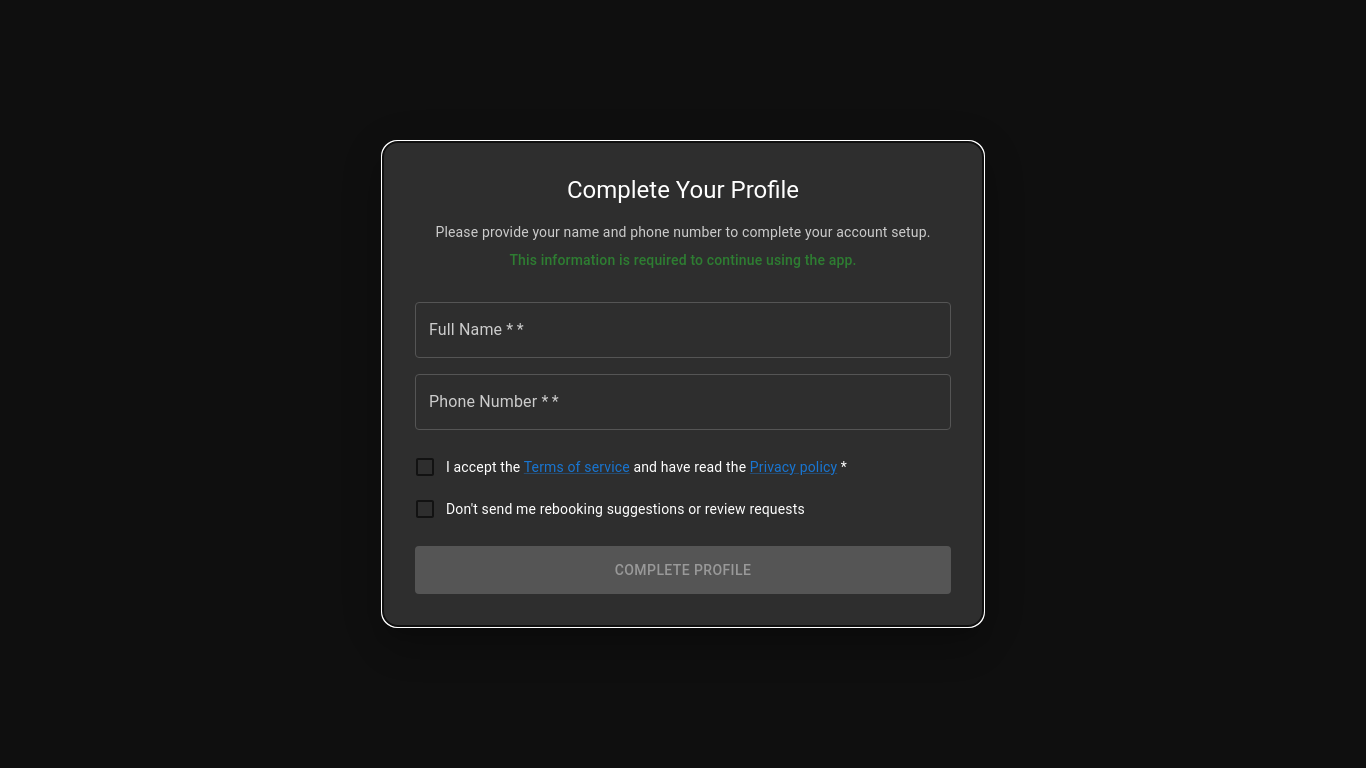
Test case: CompleteProfileModal › disables submit until name, phone and terms acceptance are filled
Expected: the button "Complete Profile" is disabled, [415,546,951,594]
Type "Jo" into the field labelled "Full Name * *".
click(683, 330); type("Jo")  # box [415,302,951,358]
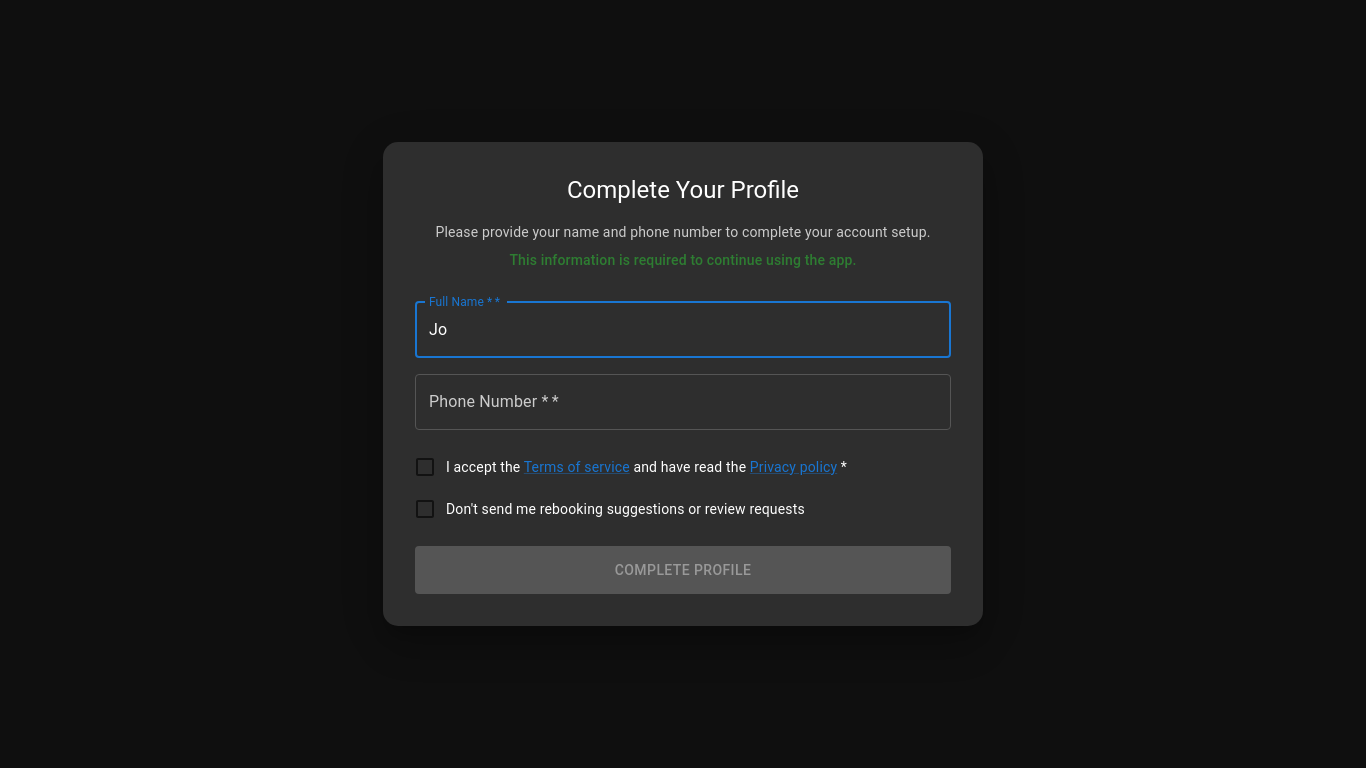
Expected: the button "Complete Profile" is disabled, [415,546,951,594]
Type "123456789" into the field labelled "Phone Number * *".
click(683, 402); type("123456789")  # box [415,374,951,430]
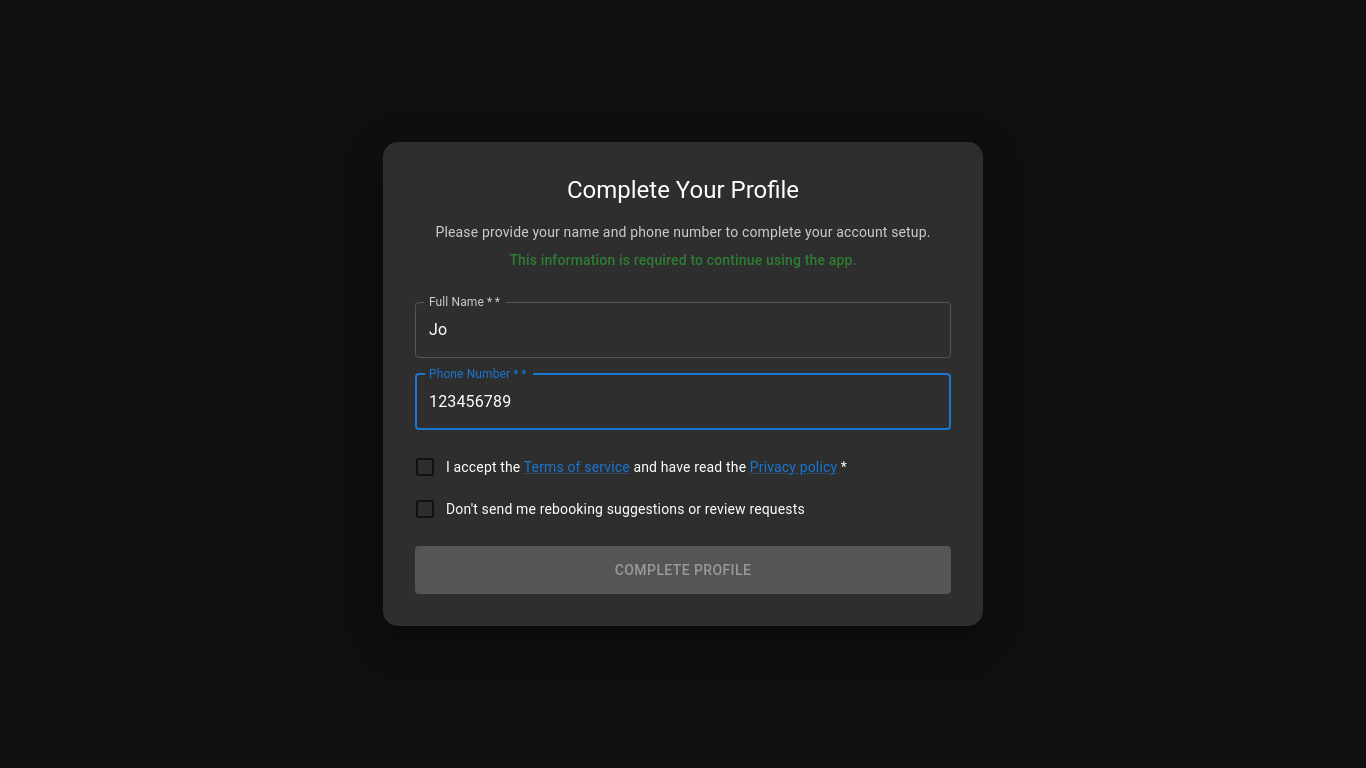
Expected: the button "Complete Profile" is disabled, [415,546,951,594]
Click the checkbox that starts with "I accept the".
click(630, 467)  # box [413,455,847,479]
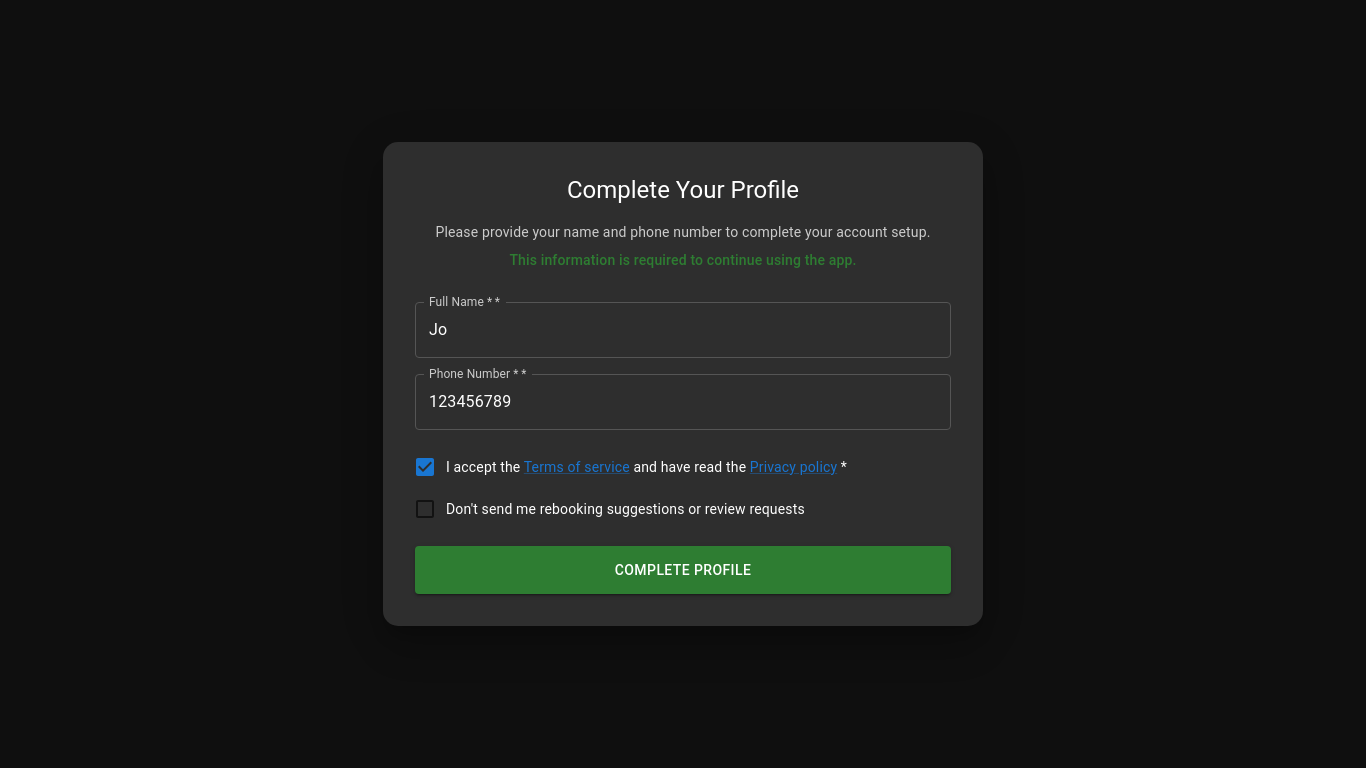
Result: the button "Complete Profile" is enabled at [415,546,951,594]
